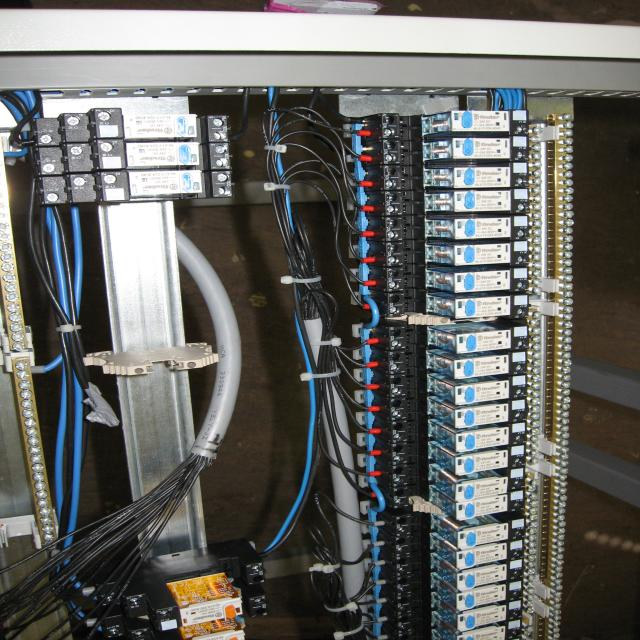Relais: (130, 170, 202, 196), (127, 142, 199, 167), (180, 599, 243, 627), (124, 115, 197, 137), (456, 449, 509, 476), (454, 380, 510, 405), (457, 543, 507, 570), (457, 476, 508, 502), (457, 523, 508, 549), (455, 404, 508, 429), (455, 427, 509, 451), (453, 355, 509, 378), (457, 564, 508, 589), (455, 270, 510, 293), (452, 111, 512, 132), (457, 605, 507, 630), (456, 495, 508, 519), (457, 330, 511, 353), (457, 584, 506, 609), (455, 243, 510, 265), (455, 296, 510, 318), (454, 139, 512, 159), (453, 168, 511, 188), (456, 220, 512, 239), (453, 193, 511, 211), (194, 631, 246, 640)
